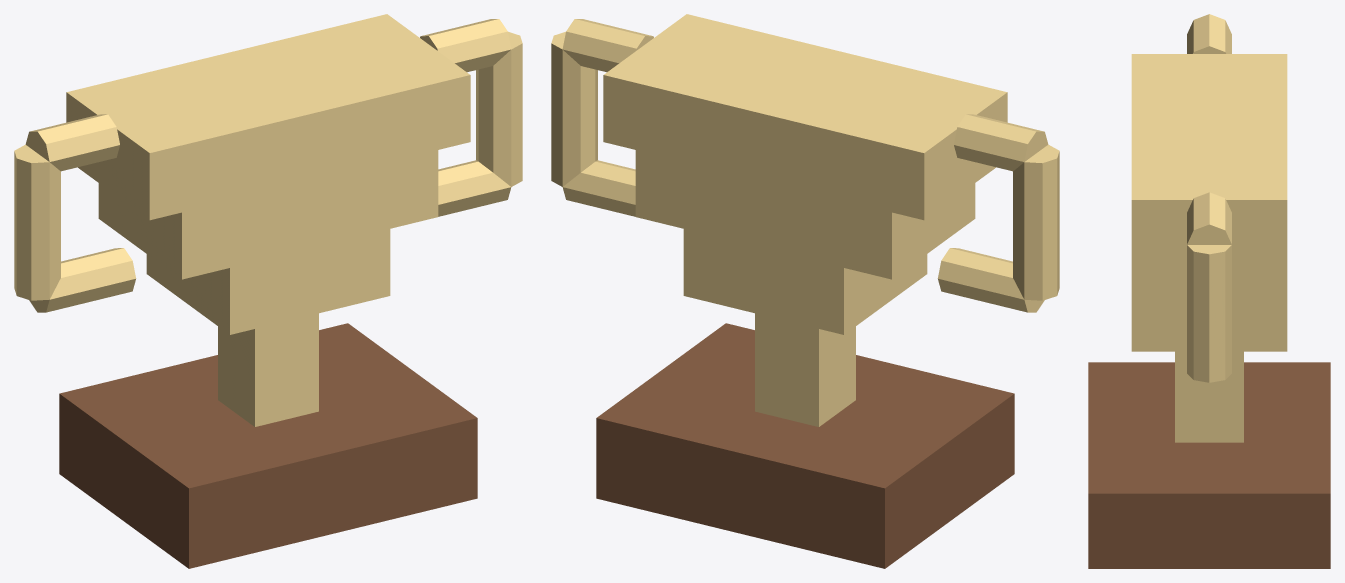
File: pixel_trophy.glb
3 renders of one model, left to right at view 1: azimuth 30°, elevation 25°; view 2: azimuth 150°, elevation 25°; view 3: azimuth 270°, elevation 25°, orthographic. The views are drawn at different scales.
Visible parts, largest first — view 1: base, cup.002, cup.001, cup, stem, handle1, handle1.001, handle0, handle2, handle2.001, handle0.001; view 2: base, cup.002, cup.001, cup, stem, handle1, handle1.001, handle0, handle2, handle2.001, handle0.001; view 3: base, cup.002, handle1.001, cup.001, stem, cup, handle2.001, handle2, handle0.001.
Boxes of the visible parts, <box> form: base: <box>59,323,477,568</box>; cup.002: <box>66,14,470,220</box>; cup.001: <box>98,150,438,279</box>; cup: <box>146,229,390,334</box>; stem: <box>218,313,318,426</box>; handle1: <box>14,144,60,300</box>; handle1.001: <box>476,31,522,186</box>; handle0: <box>29,248,136,312</box>; handle2: <box>25,114,119,171</box>; handle2.001: <box>420,19,511,72</box>; handle0.001: <box>438,160,511,216</box>; base: <box>596,323,1014,568</box>; cup.002: <box>603,14,1007,220</box>; cup.001: <box>635,150,975,279</box>; cup: <box>683,229,927,334</box>; stem: <box>755,313,855,426</box>; handle1: <box>1013,144,1059,300</box>; handle1.001: <box>551,31,597,186</box>; handle0: <box>937,248,1044,312</box>; handle2: <box>954,114,1048,171</box>; handle2.001: <box>562,19,653,72</box>; handle0.001: <box>562,160,635,216</box>; base: <box>1088,362,1330,568</box>; cup.002: <box>1131,54,1287,262</box>; handle1.001: <box>1187,245,1231,382</box>; cup.001: <box>1131,263,1287,310</box>; stem: <box>1175,351,1243,442</box>; cup: <box>1131,311,1287,351</box>; handle2.001: <box>1187,192,1231,244</box>; handle2: <box>1187,14,1231,53</box>; handle0.001: <box>1187,374,1231,393</box>.
Bounding box in the file's own units: 1.57 × 1.22 × 0.7.
